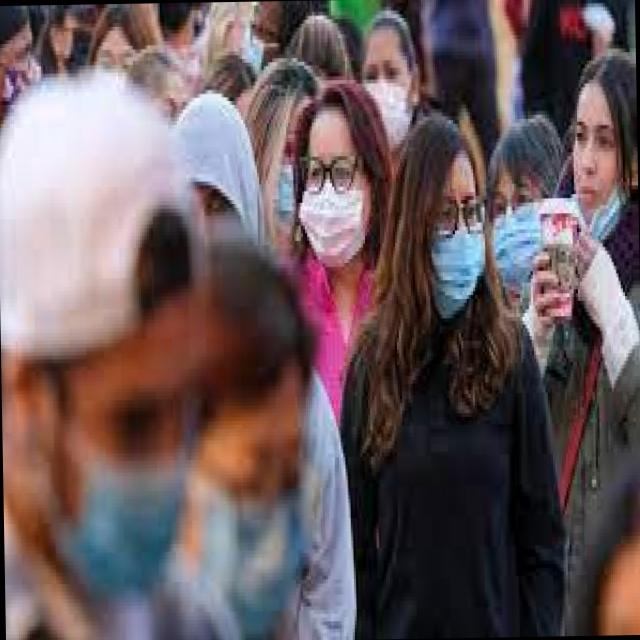Jacket: (334, 272, 584, 640), (525, 198, 640, 636)
